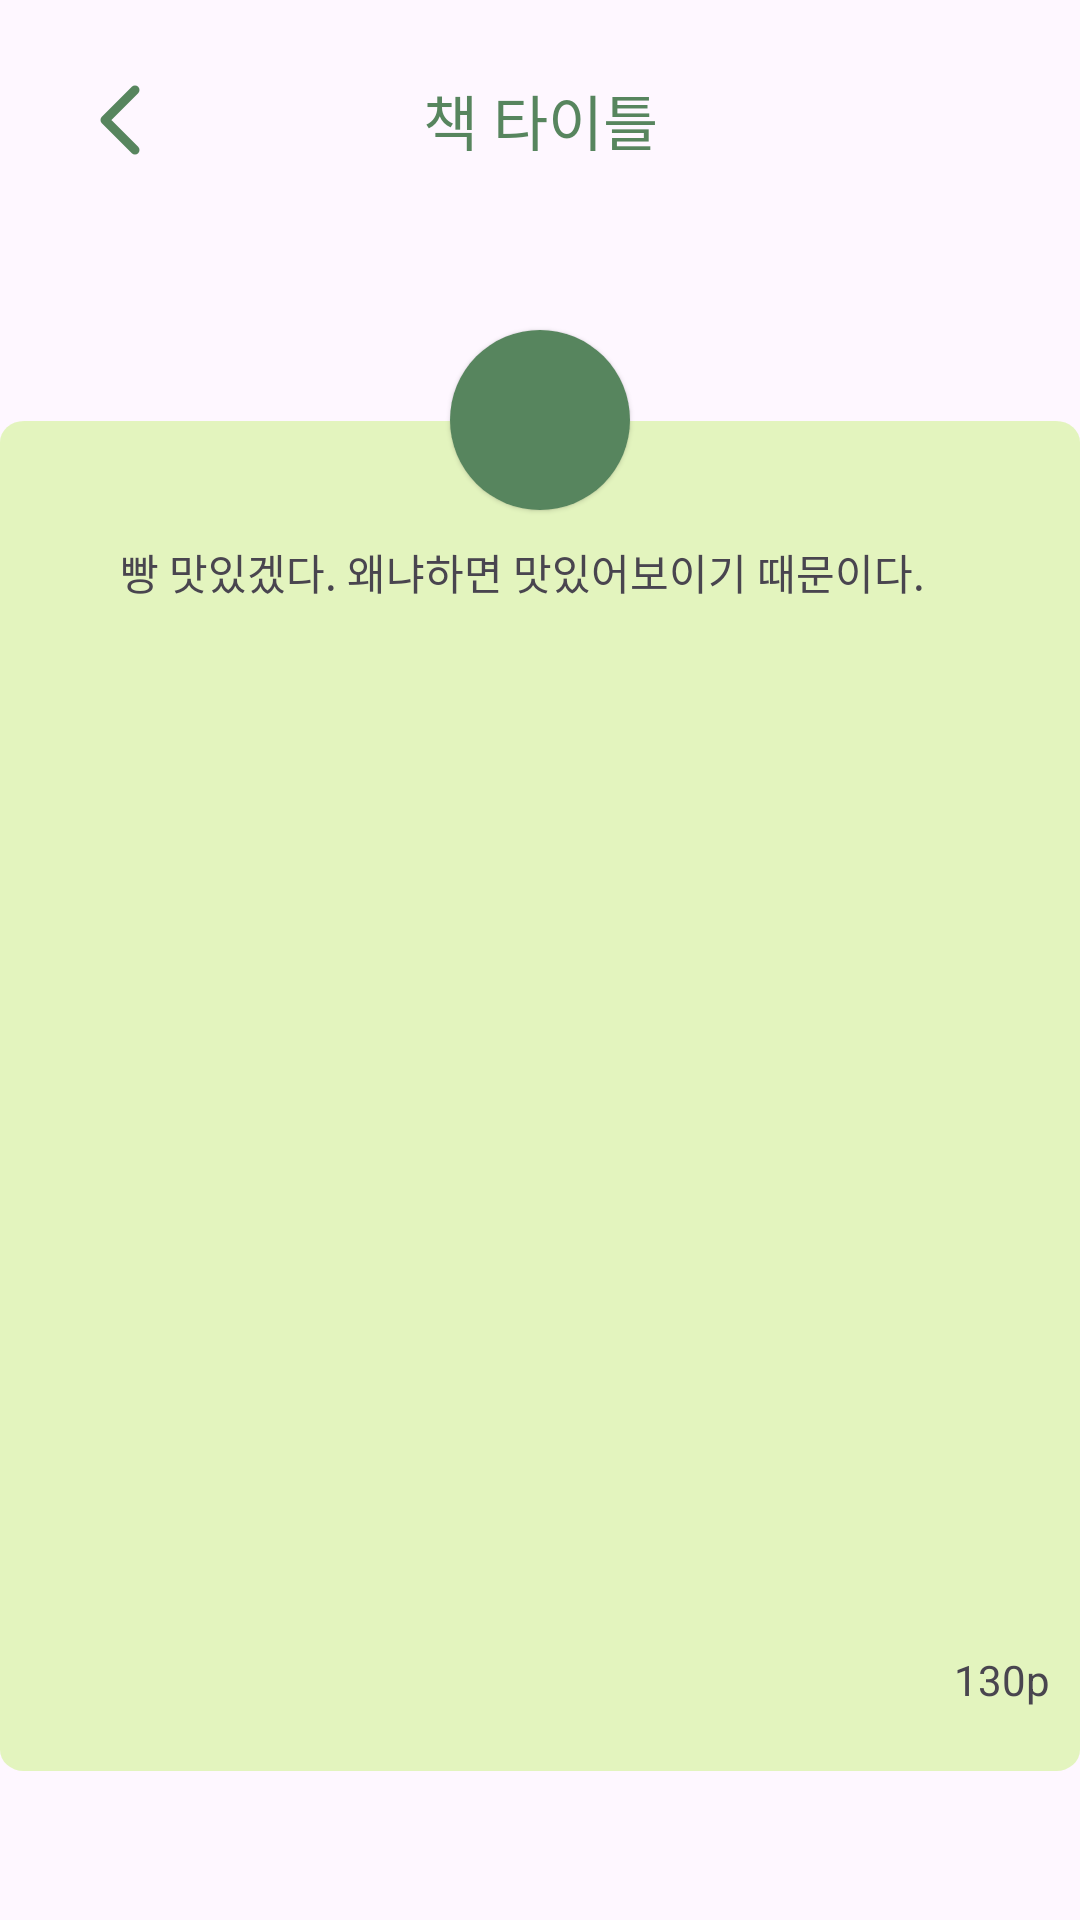

Named icons in this screenshot (1080px x 1920px) and their centers, point (x, y):
allow left: point (120, 120)
